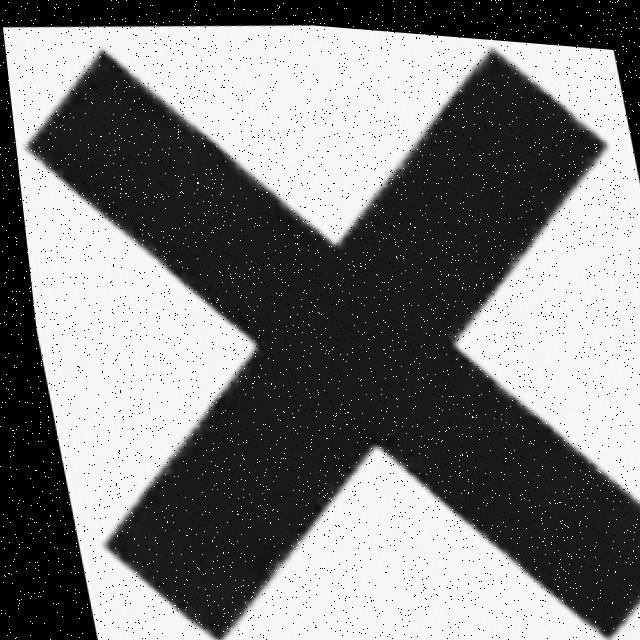cross: (14, 30, 640, 639)
